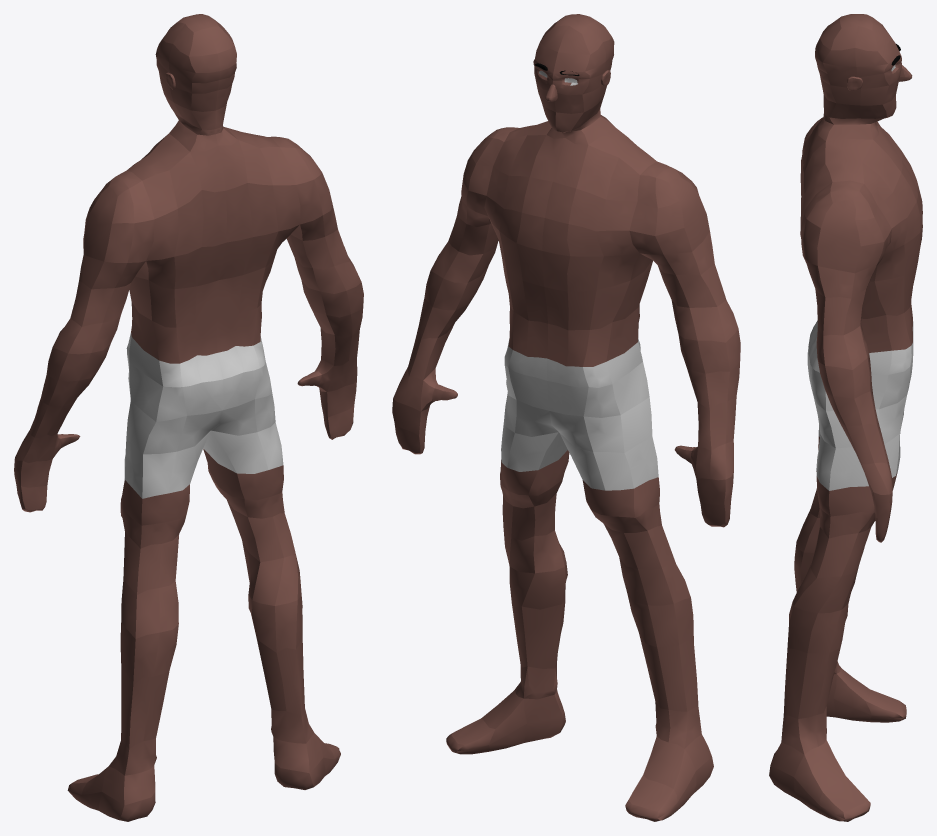
Rendered from man_sub.obj.
The picture shows the model from 3 angles, left to right: view 1: azimuth 30°, elevation 25°; view 2: azimuth 150°, elevation 25°; view 3: azimuth 270°, elevation 25°; orthographic projection. The views are drawn at different scales.
Visible parts, largest first — view 1: Cube_Cube.001; view 2: Cube_Cube.001; view 3: Cube_Cube.001.
Boxes of the visible parts, x1,y1,x2,y2 form: Cube_Cube.001: (14,14,363,821); Cube_Cube.001: (392,14,740,821); Cube_Cube.001: (769,14,922,821).
Size of the model in its own units: 2.61 by 5.63 by 1.06.
